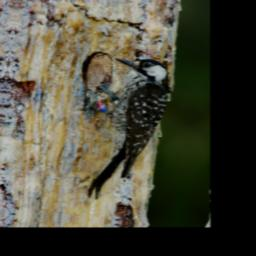Woodpecker: (72, 54, 175, 204)
